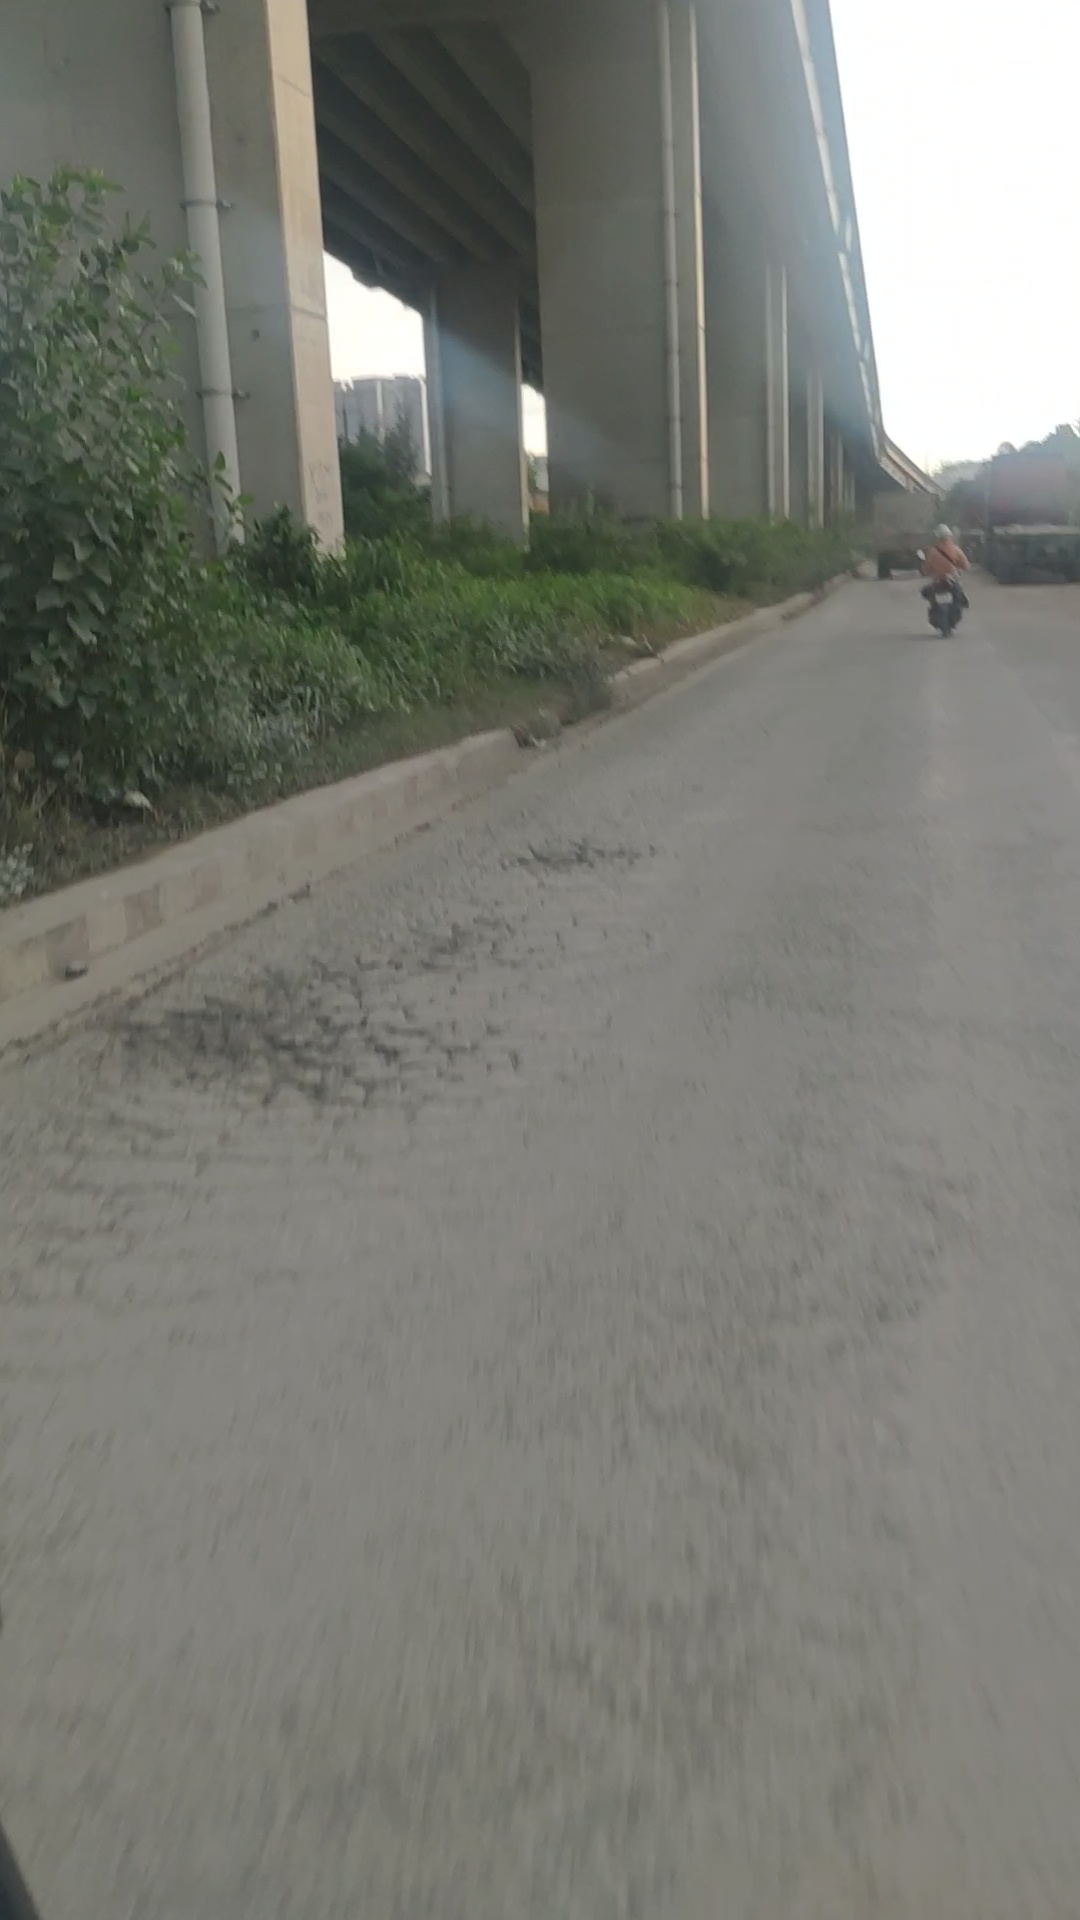hole: (73, 957, 564, 1133), (473, 818, 670, 884)
